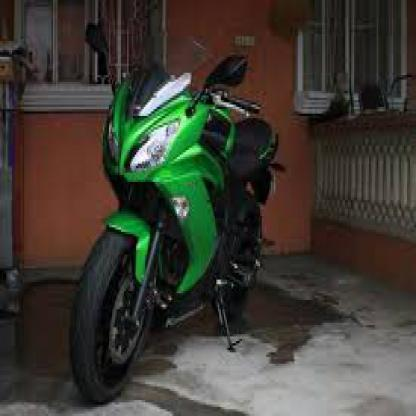Motorcycle: (67, 8, 281, 410)
